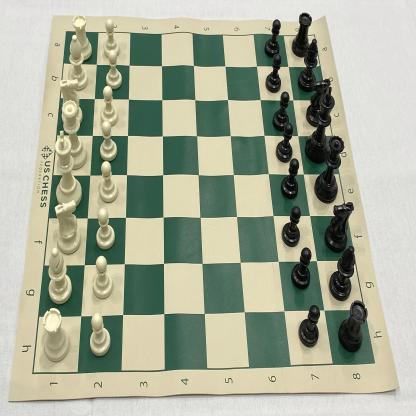black-bishop: (52, 128, 82, 210), (329, 245, 356, 300), (299, 37, 320, 93)
black-king: (305, 89, 336, 164), (98, 85, 117, 127)
black-knight: (324, 200, 356, 250), (305, 77, 333, 127), (94, 206, 116, 251)
black-pawn: (288, 245, 314, 292), (298, 304, 322, 351), (278, 204, 301, 247), (278, 158, 300, 200), (272, 90, 292, 132), (275, 123, 295, 164), (264, 17, 281, 59), (266, 54, 283, 94)
black-queen: (314, 132, 346, 205)
black-rook: (337, 300, 369, 354), (290, 8, 312, 59)
white-bishop: (46, 247, 74, 305), (66, 34, 88, 90)
white-knight: (52, 199, 80, 254), (58, 78, 85, 125)
white-pawn: (86, 312, 112, 357), (90, 256, 113, 302), (97, 160, 119, 204), (99, 120, 120, 160), (103, 50, 122, 92), (101, 17, 120, 58)
white-queen: (60, 100, 87, 171)
white-rook: (40, 306, 70, 364), (70, 11, 93, 62)
